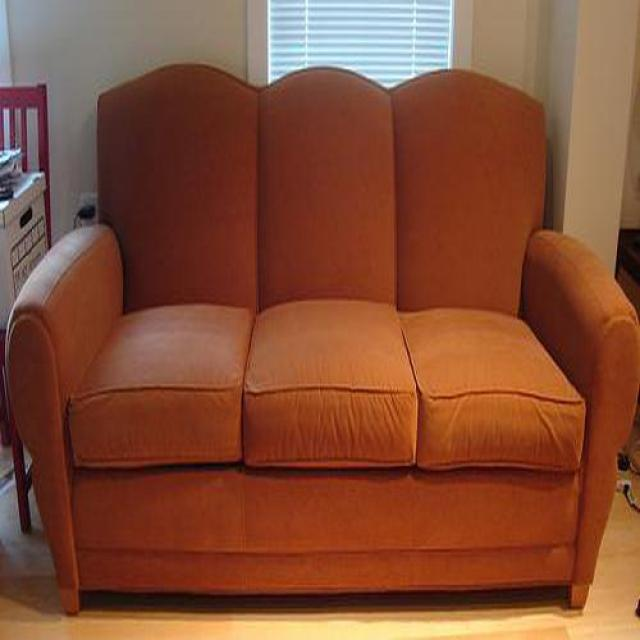sofa: (3, 64, 640, 618)
